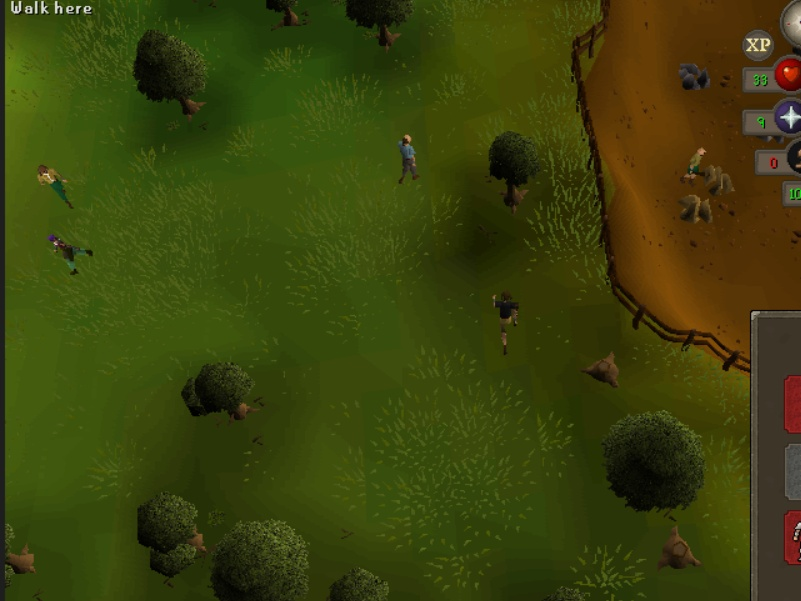clay: (679, 191, 717, 225), (702, 160, 740, 194)
